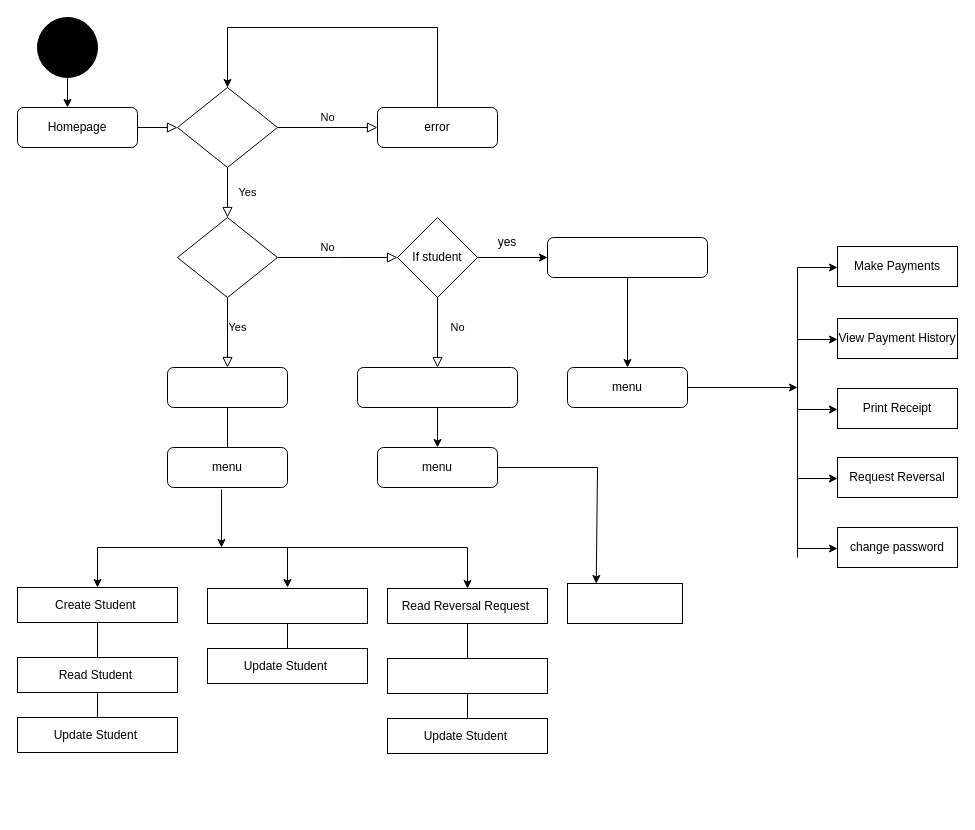
The diagram is 975 pixels wide and 830 high, and some of its shapes have lost their labels. Each missing label, with the centre of its shape:
Admin Dashboard: the point at 227,387
Approve Reversal: the point at 624,603
Bank Admin Dashboard: the point at 437,387
forward Reversal Request: the point at 467,676
Is Admin: the point at 227,257
Login: the point at 227,127
Read Payment: the point at 287,606
Students Dashboard: the point at 627,257
